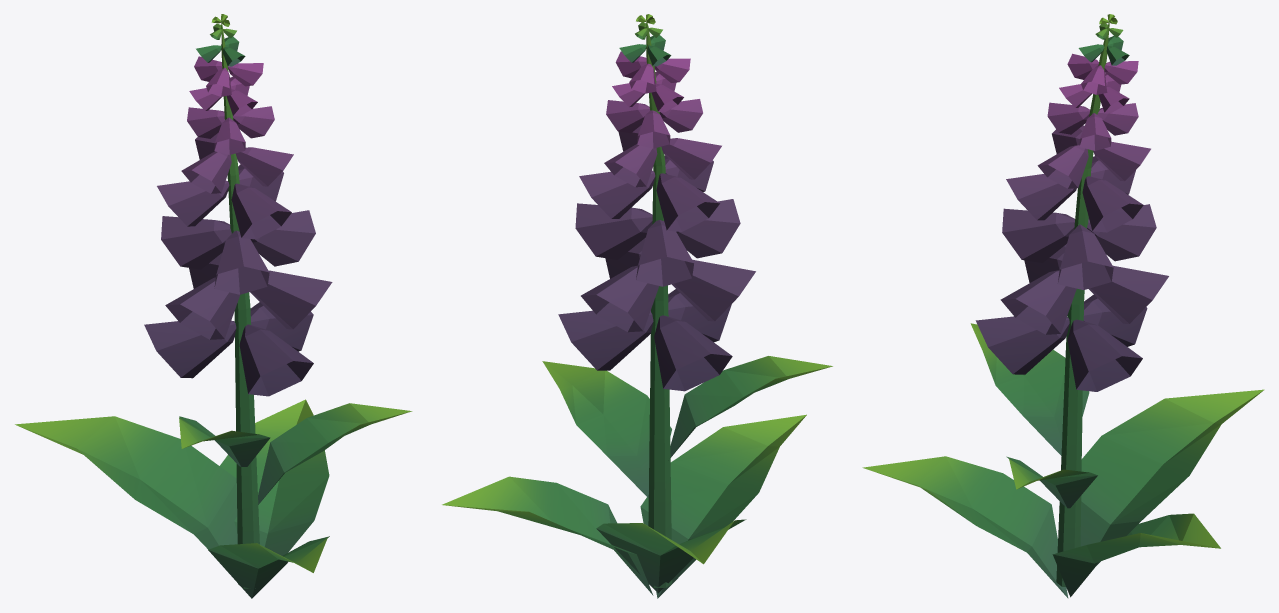
File: morado-1.glb
3 views of the same model, side by side, from view 1: azimuth 30°, elevation 25°; view 2: azimuth 150°, elevation 25°; view 3: azimuth 270°, elevation 25° (orthographic). The views are drawn at different scales.
Parts seen in each view (by area): view 1: Flower.025; view 2: Flower.025; view 3: Flower.025.
Boxes of the visible parts, x1,y1,x2,y2 form: Flower.025: (15, 14, 412, 598); Flower.025: (442, 14, 832, 598); Flower.025: (862, 14, 1264, 598).
Bounding box in the file's own units: 1.67 × 3.31 × 2.09.
1 material, 1 textured.
